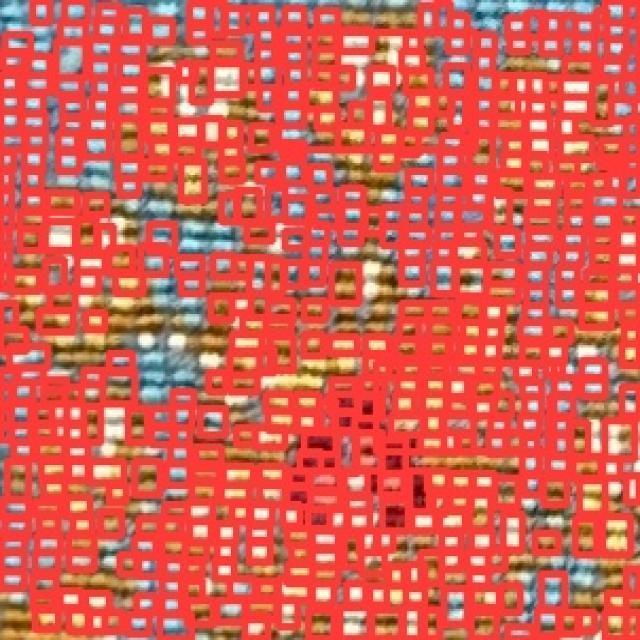Knot: (606, 420, 636, 458), (332, 264, 360, 304), (56, 42, 86, 78), (602, 518, 630, 556), (354, 434, 382, 472), (116, 118, 142, 158), (340, 606, 370, 640), (104, 372, 136, 402), (211, 64, 243, 94), (456, 265, 486, 296), (181, 162, 205, 200), (578, 480, 604, 514), (592, 80, 612, 124), (372, 610, 402, 639), (145, 72, 173, 103), (540, 574, 564, 610), (338, 430, 357, 474), (444, 588, 467, 624), (270, 336, 294, 370), (382, 500, 408, 531), (470, 494, 492, 530), (502, 516, 524, 552), (46, 222, 74, 250), (410, 471, 429, 512), (136, 462, 160, 494), (308, 610, 334, 639), (148, 223, 174, 252), (40, 309, 74, 331), (339, 30, 373, 52), (192, 63, 211, 102), (200, 408, 226, 436), (8, 462, 28, 498), (576, 519, 596, 555), (306, 85, 336, 109), (338, 126, 368, 150), (161, 615, 191, 639), (404, 606, 425, 640), (421, 551, 442, 585), (470, 136, 492, 168), (91, 461, 123, 483), (229, 354, 261, 376), (560, 138, 592, 160), (278, 580, 310, 602), (304, 432, 336, 454), (471, 612, 497, 639), (494, 478, 518, 507), (10, 348, 48, 366), (238, 189, 258, 223), (543, 476, 567, 504), (142, 246, 166, 274), (186, 599, 214, 623), (76, 220, 98, 250), (384, 440, 404, 473), (256, 426, 286, 448), (490, 192, 508, 228), (130, 408, 148, 444), (248, 258, 267, 292), (434, 262, 454, 294), (260, 482, 286, 506), (12, 270, 40, 292), (472, 587, 500, 609), (217, 600, 245, 622), (0, 330, 28, 352), (116, 273, 144, 295), (571, 422, 588, 458), (46, 193, 78, 212), (582, 286, 612, 306), (422, 609, 441, 640), (244, 616, 268, 640), (109, 248, 133, 272), (536, 610, 558, 636), (368, 70, 394, 92), (146, 118, 172, 140), (224, 465, 254, 484), (488, 265, 518, 284), (497, 175, 527, 194), (582, 308, 612, 327), (560, 97, 590, 116), (392, 416, 422, 435), (605, 611, 626, 638), (500, 586, 521, 613), (346, 470, 366, 498), (438, 510, 466, 530), (532, 176, 560, 196), (202, 118, 222, 146), (248, 600, 276, 620), (344, 536, 362, 567), (621, 387, 640, 416), (193, 479, 218, 501), (407, 70, 432, 92), (485, 284, 517, 301), (220, 486, 250, 504), (454, 244, 484, 262), (444, 414, 474, 432), (312, 471, 340, 490), (591, 193, 619, 212), (526, 210, 554, 229), (84, 408, 100, 441), (528, 135, 552, 157), (64, 1, 88, 23), (34, 608, 58, 630), (84, 136, 108, 158), (366, 354, 388, 378), (284, 198, 308, 220), (162, 536, 186, 558), (4, 516, 28, 538), (360, 552, 384, 574), (371, 97, 388, 128), (268, 187, 285, 218), (176, 120, 201, 141), (46, 261, 64, 290), (278, 602, 298, 628), (440, 172, 466, 192), (108, 352, 134, 372), (36, 442, 66, 459), (268, 260, 283, 294), (450, 96, 465, 130), (459, 300, 482, 322), (333, 411, 356, 433), (496, 233, 520, 254), (566, 58, 594, 76), (251, 126, 272, 150), (285, 262, 306, 286), (446, 67, 467, 91), (330, 336, 358, 354), (458, 208, 486, 226), (494, 95, 518, 116), (611, 101, 635, 122), (328, 396, 356, 414), (430, 320, 456, 339), (574, 458, 600, 477), (116, 41, 142, 60), (5, 36, 31, 55), (50, 290, 76, 309), (269, 411, 295, 430), (3, 500, 29, 519), (268, 301, 294, 320), (188, 521, 210, 543), (188, 4, 210, 26), (412, 92, 434, 114), (360, 396, 382, 418), (600, 140, 624, 160), (614, 250, 638, 270), (526, 116, 550, 136), (231, 336, 261, 352), (36, 552, 60, 572), (288, 564, 312, 584), (168, 462, 188, 486), (287, 486, 311, 506), (282, 164, 306, 184), (310, 494, 340, 510), (0, 534, 24, 554), (32, 576, 56, 596), (213, 44, 241, 61), (77, 255, 105, 272), (230, 375, 258, 392), (528, 231, 556, 248), (496, 116, 524, 133), (473, 380, 498, 399), (0, 132, 25, 151), (313, 530, 338, 549), (229, 579, 254, 598), (246, 223, 271, 242), (41, 462, 67, 480), (115, 100, 141, 118), (68, 552, 94, 570), (24, 76, 50, 94), (68, 611, 89, 633), (20, 228, 41, 250), (409, 111, 430, 133), (618, 228, 639, 250), (548, 435, 569, 457), (470, 96, 492, 117), (283, 26, 304, 48), (409, 170, 430, 192), (139, 554, 160, 576), (212, 256, 233, 278), (423, 394, 446, 414), (470, 532, 494, 551), (86, 592, 110, 611), (296, 393, 320, 412), (212, 296, 231, 320), (530, 194, 554, 213), (528, 247, 552, 266), (550, 397, 574, 416), (127, 615, 151, 634), (590, 211, 614, 230), (60, 23, 84, 42), (420, 434, 444, 453), (126, 12, 145, 36), (582, 362, 606, 381), (406, 228, 430, 247), (177, 256, 202, 274), (211, 4, 226, 34), (34, 500, 62, 516), (68, 536, 96, 552), (420, 4, 436, 32), (2, 52, 30, 68), (146, 103, 172, 120), (56, 78, 82, 95), (194, 448, 220, 465), (264, 394, 290, 411), (560, 611, 580, 633), (378, 130, 400, 150), (524, 304, 546, 324), (450, 472, 472, 492), (468, 188, 490, 208), (380, 474, 402, 494), (438, 207, 458, 229), (402, 262, 422, 284), (100, 512, 120, 534), (474, 73, 494, 95), (222, 159, 242, 181), (68, 498, 92, 516), (536, 534, 560, 552), (224, 8, 242, 32), (222, 194, 238, 221), (88, 40, 112, 58), (148, 22, 172, 40), (364, 208, 382, 232), (98, 226, 114, 253), (118, 160, 142, 178), (313, 549, 338, 566), (192, 467, 220, 482), (251, 504, 272, 524), (13, 382, 34, 402), (604, 2, 625, 22), (2, 570, 23, 590), (315, 68, 336, 88), (321, 402, 336, 430), (550, 322, 571, 342), (304, 334, 323, 356), (412, 512, 434, 531), (312, 585, 334, 604), (496, 76, 515, 98), (442, 548, 461, 570), (288, 470, 310, 489), (366, 337, 388, 356), (26, 55, 48, 74), (303, 261, 322, 283), (396, 338, 418, 357), (32, 1, 51, 23), (134, 537, 156, 556), (260, 468, 286, 484), (145, 162, 171, 178), (425, 340, 448, 358), (315, 208, 338, 226), (21, 213, 45, 230), (314, 567, 338, 584), (23, 115, 47, 132), (600, 61, 624, 78), (474, 472, 494, 492), (188, 504, 213, 520), (526, 286, 546, 306), (382, 226, 402, 246), (526, 154, 546, 174), (348, 510, 368, 530), (90, 59, 111, 78), (121, 61, 142, 80), (282, 107, 303, 126), (316, 109, 337, 128), (248, 543, 269, 562), (88, 115, 109, 134), (304, 301, 325, 320), (300, 452, 321, 471), (285, 230, 306, 249), (316, 49, 337, 68), (592, 250, 614, 268), (362, 378, 384, 396), (434, 92, 452, 114), (12, 402, 30, 424), (350, 104, 368, 126), (466, 552, 488, 570), (542, 16, 560, 38), (256, 26, 274, 48), (544, 76, 562, 98), (308, 510, 330, 528), (152, 408, 174, 426), (382, 208, 404, 226), (398, 322, 420, 340), (62, 100, 84, 118), (528, 76, 546, 98), (152, 426, 174, 444), (312, 190, 334, 208), (554, 378, 576, 396), (470, 172, 492, 190), (436, 4, 450, 32), (627, 474, 640, 504), (586, 272, 612, 287), (396, 378, 420, 394), (454, 360, 478, 376), (118, 82, 142, 98), (174, 144, 198, 160), (440, 136, 464, 152), (288, 530, 312, 546), (528, 13, 544, 37), (521, 324, 545, 340), (555, 160, 579, 176), (164, 504, 188, 520), (616, 288, 640, 304), (463, 322, 482, 342), (407, 208, 426, 228), (24, 95, 44, 114), (342, 206, 362, 225), (0, 112, 19, 132), (508, 18, 528, 37), (284, 86, 303, 106), (378, 150, 398, 169), (335, 68, 354, 88), (104, 612, 123, 632), (258, 163, 278, 182), (522, 343, 542, 362), (244, 316, 265, 334), (87, 196, 108, 214), (172, 390, 193, 408), (85, 312, 106, 330), (2, 552, 23, 570), (583, 378, 604, 396), (340, 226, 361, 244), (548, 456, 569, 474), (18, 369, 43, 384), (402, 304, 427, 319), (622, 344, 639, 366), (408, 564, 425, 586), (623, 174, 640, 196), (287, 64, 304, 86), (430, 303, 452, 320), (512, 76, 529, 98), (0, 304, 17, 326), (495, 394, 512, 416), (458, 342, 481, 358), (424, 378, 447, 394), (37, 536, 60, 552), (424, 415, 443, 434), (162, 519, 181, 538), (232, 295, 251, 314), (428, 470, 447, 489), (567, 212, 586, 231), (215, 561, 234, 580), (602, 459, 621, 478), (152, 142, 172, 160), (484, 304, 504, 322), (396, 394, 414, 414), (506, 136, 524, 156), (222, 124, 242, 142), (558, 268, 578, 286), (594, 232, 614, 250), (60, 152, 78, 172), (504, 154, 524, 172), (625, 52, 640, 76), (526, 268, 546, 286), (438, 190, 458, 208), (402, 244, 422, 262), (306, 244, 326, 262), (254, 10, 274, 28), (98, 20, 116, 40), (170, 444, 190, 462), (402, 52, 422, 70), (182, 276, 202, 294), (508, 34, 528, 52), (32, 592, 53, 609), (315, 31, 336, 48), (440, 152, 461, 169), (548, 417, 569, 434), (250, 525, 271, 542), (622, 78, 639, 99), (515, 363, 536, 380), (138, 519, 159, 536), (42, 480, 64, 496), (402, 133, 418, 155), (612, 270, 634, 286), (346, 494, 368, 510), (450, 494, 472, 510), (627, 568, 640, 595), (332, 381, 355, 396), (448, 378, 467, 396), (346, 585, 364, 604), (73, 516, 92, 534), (66, 404, 84, 423), (546, 343, 564, 362), (184, 580, 202, 599), (69, 462, 88, 480), (24, 151, 42, 170), (173, 408, 192, 426), (208, 373, 226, 392), (524, 476, 542, 495), (606, 40, 625, 58), (576, 17, 594, 36), (308, 223, 326, 242), (369, 588, 388, 606), (442, 534, 461, 552), (576, 37, 594, 56), (120, 178, 139, 196), (312, 168, 330, 187), (1, 94, 20, 112), (64, 386, 82, 405), (190, 24, 208, 43), (407, 588, 426, 606), (542, 35, 560, 54), (179, 62, 196, 82), (60, 592, 80, 609), (236, 428, 256, 445), (562, 231, 582, 248), (58, 134, 78, 151), (26, 133, 46, 150), (408, 190, 425, 210), (186, 543, 206, 560), (88, 612, 105, 632), (443, 432, 460, 452), (342, 187, 362, 204), (520, 417, 540, 434), (78, 273, 98, 290), (567, 178, 588, 194), (426, 360, 447, 376), (161, 578, 182, 594), (317, 10, 338, 26), (97, 6, 121, 20), (284, 10, 305, 26), (260, 350, 274, 374), (560, 286, 578, 304), (470, 570, 488, 588), (438, 226, 456, 244), (450, 16, 468, 34), (256, 46, 274, 64), (283, 506, 300, 525), (388, 567, 405, 586), (14, 442, 33, 459), (108, 484, 127, 501), (92, 97, 109, 116), (216, 544, 235, 561), (448, 36, 467, 53), (620, 212, 639, 229), (568, 195, 587, 212), (377, 531, 394, 550), (285, 49, 304, 66), (234, 259, 251, 278), (607, 593, 626, 610), (359, 532, 376, 551), (400, 360, 420, 376), (578, 612, 594, 632), (330, 510, 346, 530), (508, 432, 524, 452), (472, 114, 492, 130), (164, 560, 184, 576), (46, 378, 66, 394), (296, 414, 316, 430), (626, 614, 639, 638), (627, 25, 640, 49), (508, 627, 534, 639), (266, 319, 292, 331), (524, 452, 538, 474), (218, 525, 236, 542), (482, 342, 499, 360), (474, 398, 492, 415), (562, 248, 580, 265), (623, 306, 640, 324), (483, 324, 500, 342), (232, 504, 249, 522), (94, 79, 112, 96), (64, 116, 82, 133), (478, 34, 495, 52), (490, 418, 508, 435), (258, 581, 276, 598), (163, 596, 180, 614), (476, 55, 492, 74), (490, 434, 506, 453), (34, 426, 53, 442), (0, 76, 19, 92), (120, 555, 136, 574), (44, 389, 64, 404), (522, 381, 542, 396), (432, 496, 447, 516), (260, 88, 274, 109), (530, 98, 547, 115), (35, 406, 52, 423), (590, 176, 607, 193), (623, 326, 640, 343), (560, 118, 576, 136), (26, 172, 42, 190), (12, 426, 30, 442), (436, 244, 452, 262), (488, 552, 504, 570), (596, 11, 608, 35), (627, 2, 640, 24), (627, 118, 640, 140), (68, 443, 87, 458), (52, 404, 67, 423), (524, 398, 540, 415), (186, 561, 202, 578), (222, 146, 240, 161), (292, 546, 310, 561), (84, 370, 102, 385), (244, 67, 258, 86), (562, 17, 576, 36), (39, 518, 58, 532), (388, 356, 400, 378), (627, 140, 640, 160), (26, 192, 42, 208), (458, 434, 474, 450), (138, 596, 154, 612), (404, 34, 420, 50), (0, 371, 17, 386), (53, 423, 68, 440), (283, 144, 304, 156), (544, 362, 562, 376), (0, 151, 13, 170), (610, 175, 623, 194), (172, 429, 188, 444), (450, 400, 470, 412), (600, 157, 624, 167), (68, 424, 82, 441), (481, 362, 498, 376), (524, 436, 538, 453), (0, 172, 13, 190), (461, 228, 480, 240), (625, 158, 640, 173), (0, 388, 13, 405), (0, 212, 13, 229), (0, 190, 11, 210), (243, 7, 253, 29), (0, 229, 11, 248), (1, 424, 12, 441), (450, 340, 460, 358), (0, 408, 11, 424), (0, 271, 8, 290), (0, 249, 8, 268), (420, 338, 428, 357)
